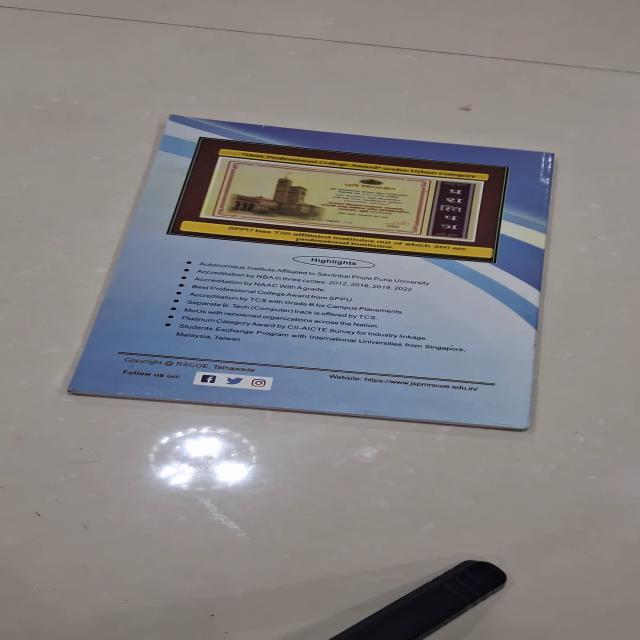paper: (65, 114, 555, 431)
